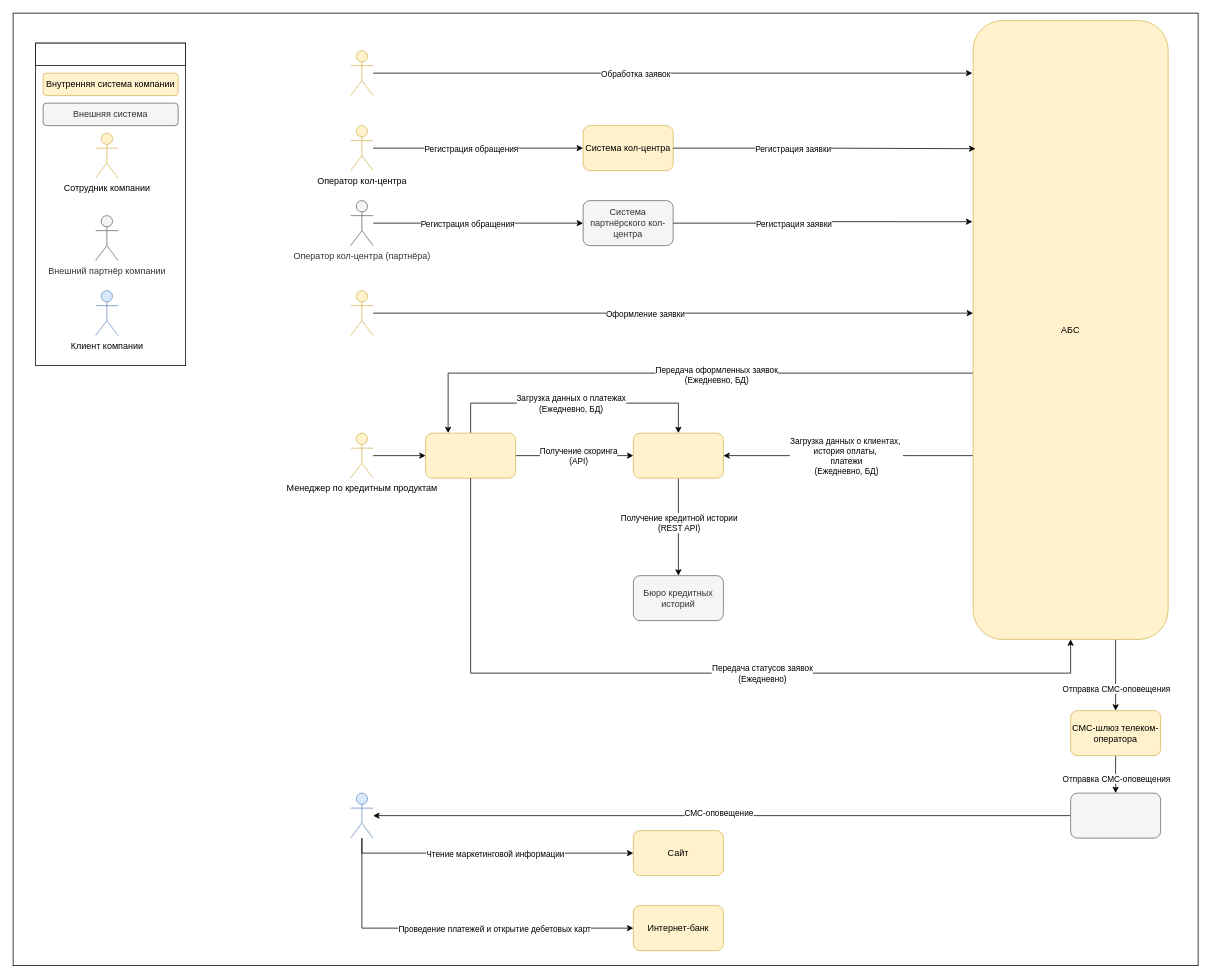
The diagram is 1211 pixels wide and 979 high, and some of its shapes have lost their labels. Here are the shapes that lost their labels. From the top down, the box of each, then its label:
(35, 42, 186, 66): Легенда
(350, 50, 373, 96): Менеджер по депозитным продуктам
(350, 290, 373, 336): Менеджер фронт-офиса
(425, 432, 516, 478): Кредитный конвейер
(633, 432, 723, 478): Система кредитного скоринга
(350, 792, 373, 838): Клиент
(1070, 792, 1161, 838): Телеком-оператор
